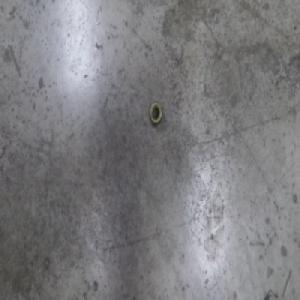Nut: (148, 99, 163, 127)
